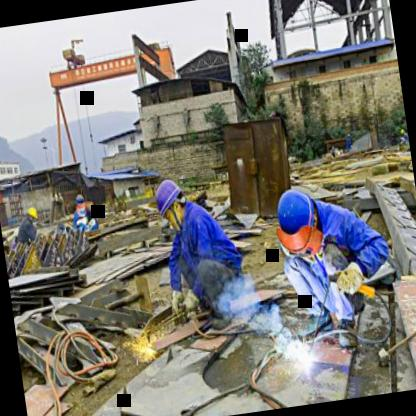helmet: (271, 181, 322, 252), (150, 172, 190, 232), (72, 191, 89, 214), (23, 203, 40, 224)
